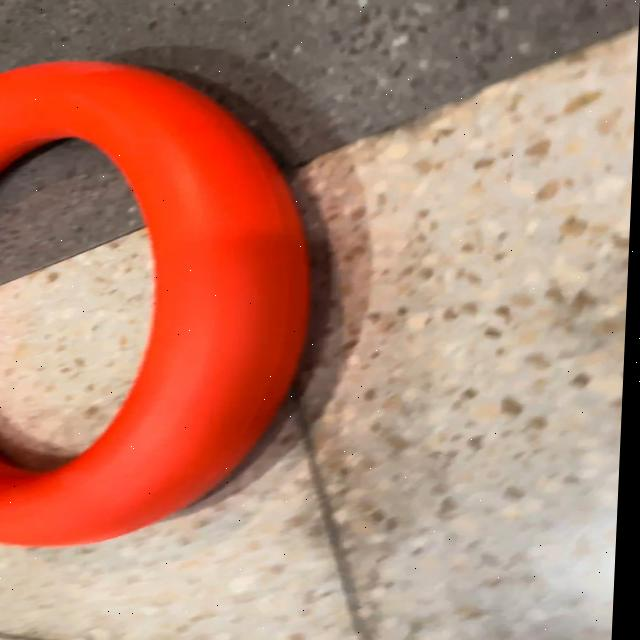note: (0, 59, 325, 549)
